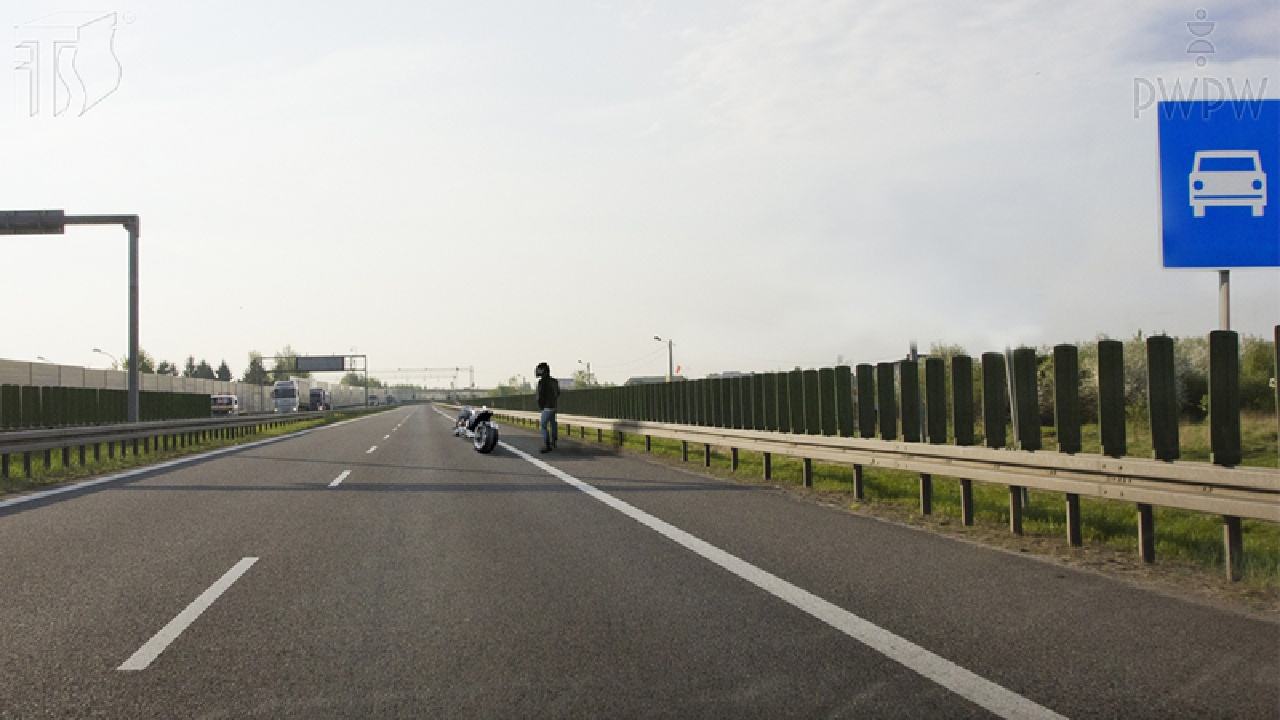D7: (1156, 100, 1280, 270)
